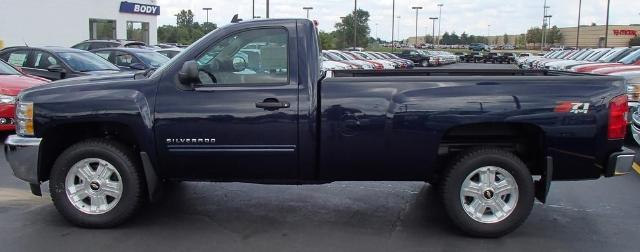pickup-truck: (1, 17, 634, 238)
